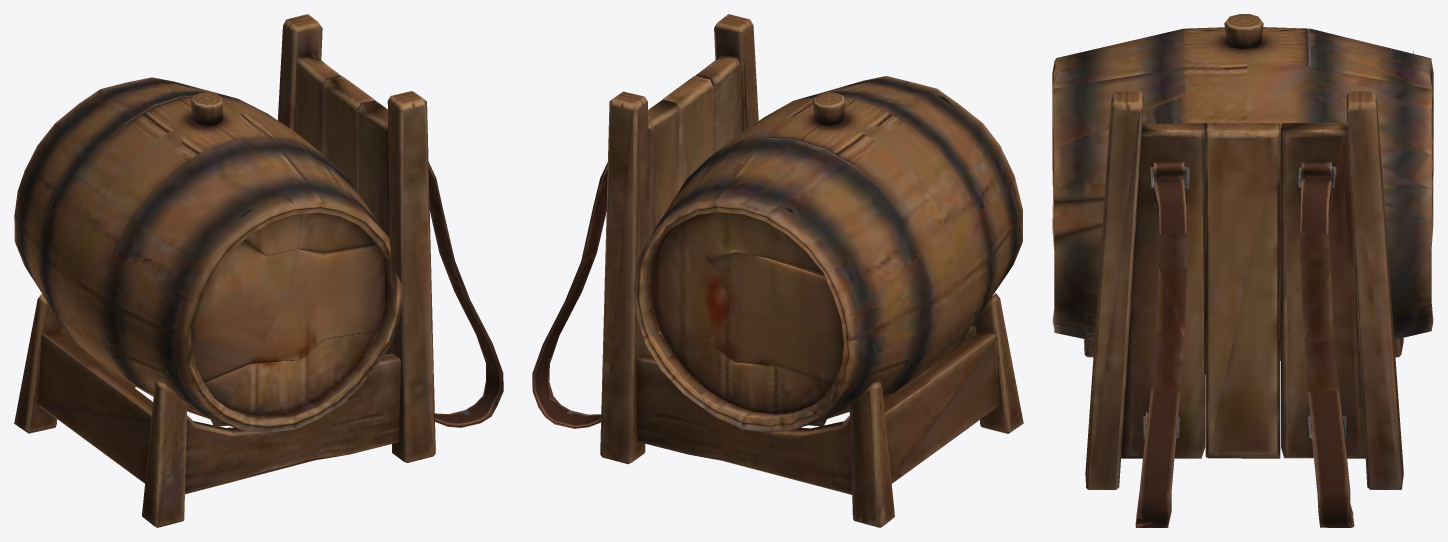
File: pack_ciderCask.glb
3 renders of one model, left to right at view 1: azimuth 30°, elevation 25°; view 2: azimuth 150°, elevation 25°; view 3: azimuth 270°, elevation 25°, orthographic. The views are drawn at different scales.
Bounding box in the file's own units: 0.9551 × 0.8437 × 0.7427.
Materials: 1 (1 with a texture image).
